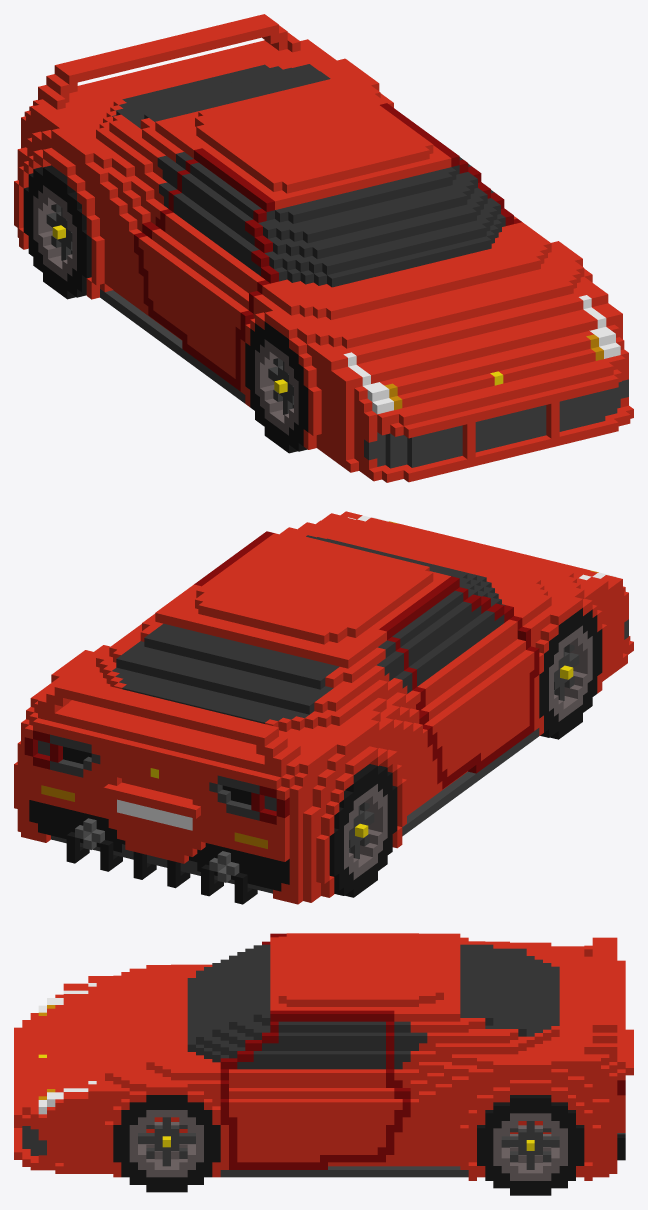
File: ferrari.obj
3 views of the same model, one above another, from view 1: azimuth 30°, elevation 25°; view 2: azimuth 150°, elevation 25°; view 3: azimuth 270°, elevation 25° (orthographic). The views are drawn at different scales.
Size of the model in its own units: 3.7 by 2.2 by 7.5.
